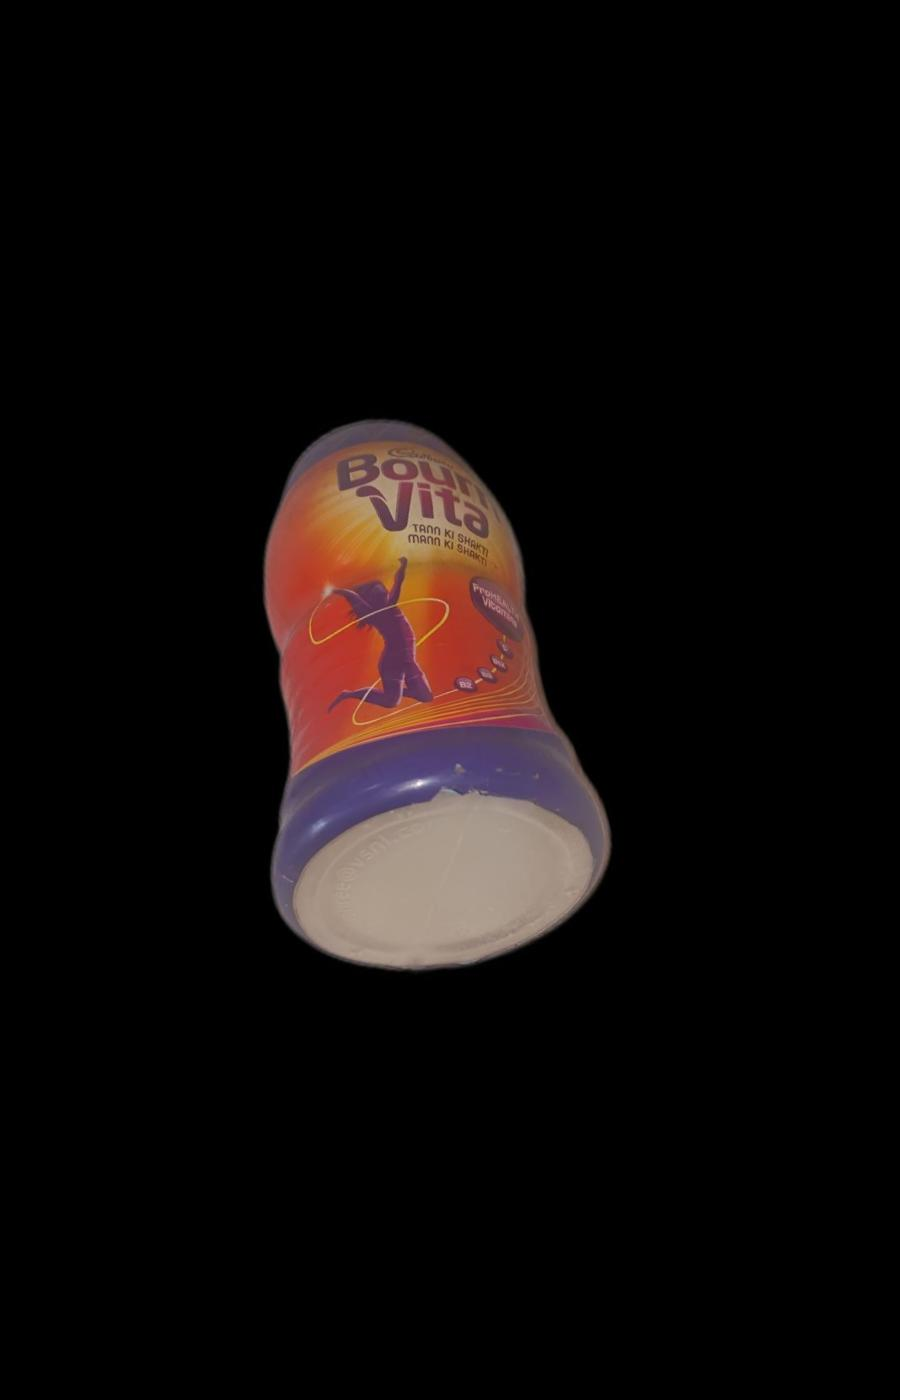Cadbury Bournvita Chocolate Health Drink-1kg-: (152, 363, 649, 1000)
